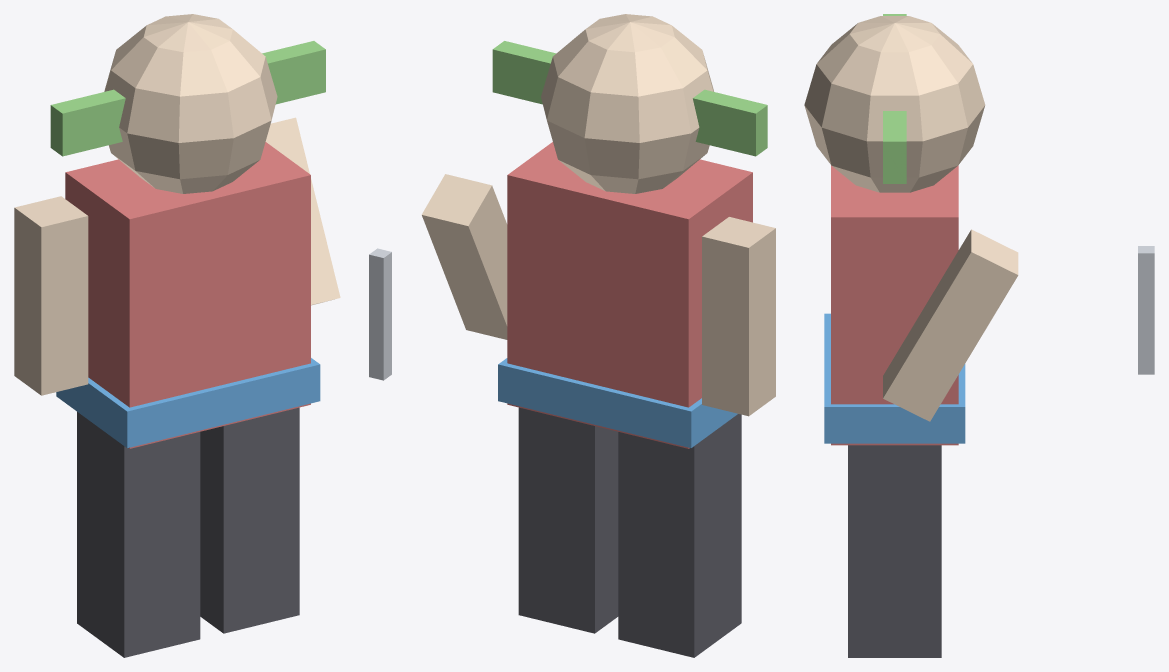
File: goblin.glb
The picture shows the model from 3 angles, left to right: view 1: azimuth 30°, elevation 25°; view 2: azimuth 150°, elevation 25°; view 3: azimuth 270°, elevation 25°; orthographic projection.
Parts seen in each view (by area): view 1: goblin; view 2: goblin; view 3: goblin.
Part boxes in pixels (x1,y1,x2,y2): goblin: [14, 14, 340, 657]; goblin: [369, 14, 775, 657]; goblin: [804, 14, 1154, 657].
Size of the model in its own units: 0.6 by 1.17 by 0.627.
